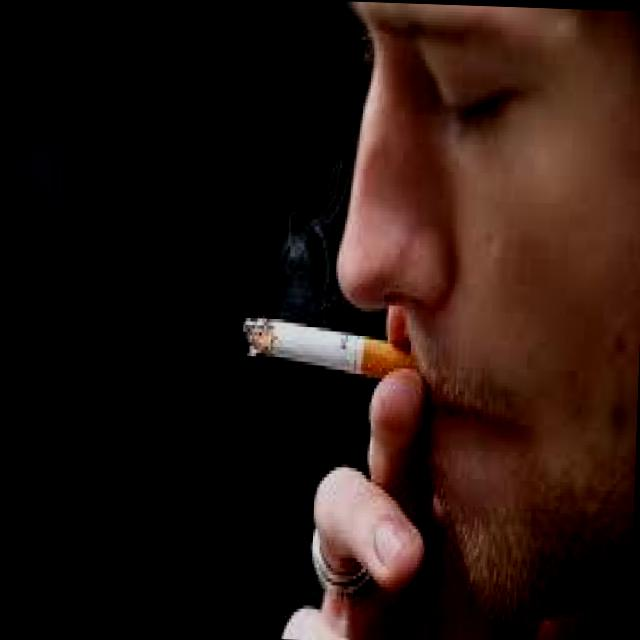cigarette: (238, 307, 421, 400)
